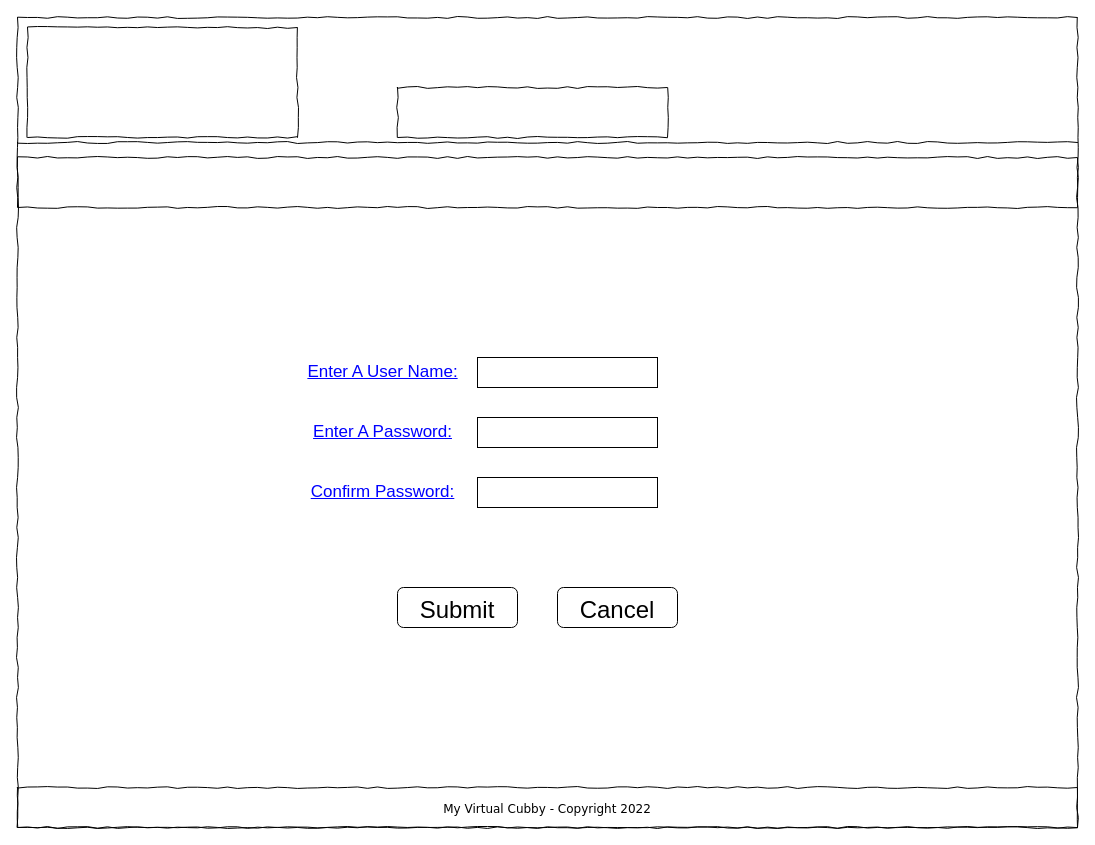
The diagram is 1095 pixels wide and 845 high, and some of its shapes have lost their labels. Each missing label, with the centre of its shape:
"Home" belongs at [547,182].
"My Virtual Cubby" belongs at [162,82].
"Online Library Portal" belongs at [532,112].
